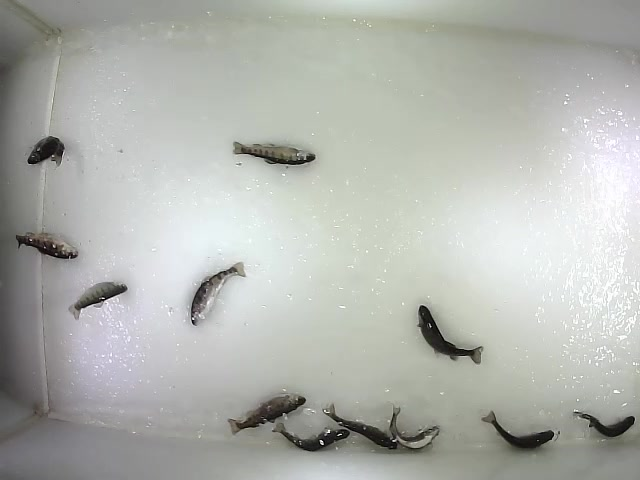fish: (415, 304, 484, 366), (189, 260, 247, 328), (321, 402, 398, 451), (226, 393, 308, 437), (480, 409, 556, 450), (387, 403, 442, 451), (67, 279, 129, 321), (271, 421, 352, 453), (232, 138, 318, 167), (14, 230, 80, 262), (570, 410, 636, 439), (26, 135, 65, 170)
